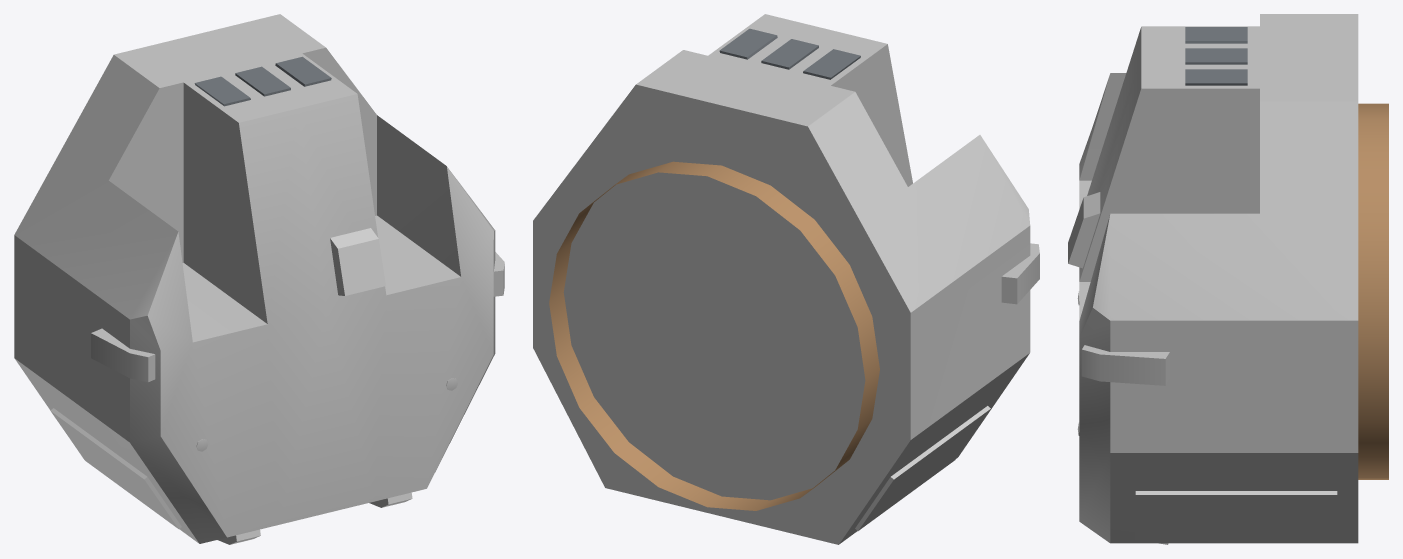
File: Dido_gun_cal133_x2_001_Dido_gun_cal133_x2_001.obj
3 renders of one model, left to right at view 1: azimuth 30°, elevation 25°; view 2: azimuth 150°, elevation 25°; view 3: azimuth 270°, elevation 25°, orthographic. The views are drawn at different scales.
Parts seen in each view (by area): view 1: Vanguard_gun_133_x2_steel_4, Vanguard_gun_133_x2_steel_5, Vanguard_gun_133_x2_details_4; view 2: Vanguard_gun_133_x2_steel_4, Vanguard_gun_133_x2_details_3, Vanguard_gun_133_x2_details_4; view 3: Vanguard_gun_133_x2_steel_4, Vanguard_gun_133_x2_details_3, Vanguard_gun_133_x2_details_4, Vanguard_gun_133_x2_steel_5.
Boxes of the visible parts, x1,y1,x2,y2 form: Vanguard_gun_133_x2_steel_4: (14,14,504,544); Vanguard_gun_133_x2_steel_5: (330,228,385,295); Vanguard_gun_133_x2_details_4: (194,56,331,106); Vanguard_gun_133_x2_steel_4: (533,14,1039,544); Vanguard_gun_133_x2_details_3: (549,161,879,510); Vanguard_gun_133_x2_details_4: (719,28,860,79); Vanguard_gun_133_x2_steel_4: (1079,14,1358,544); Vanguard_gun_133_x2_details_3: (1358,103,1388,479); Vanguard_gun_133_x2_details_4: (1185,27,1247,85); Vanguard_gun_133_x2_steel_5: (1068,192,1100,268).
Size of the model in its own units: 4.71 by 4.75 by 3.11.
